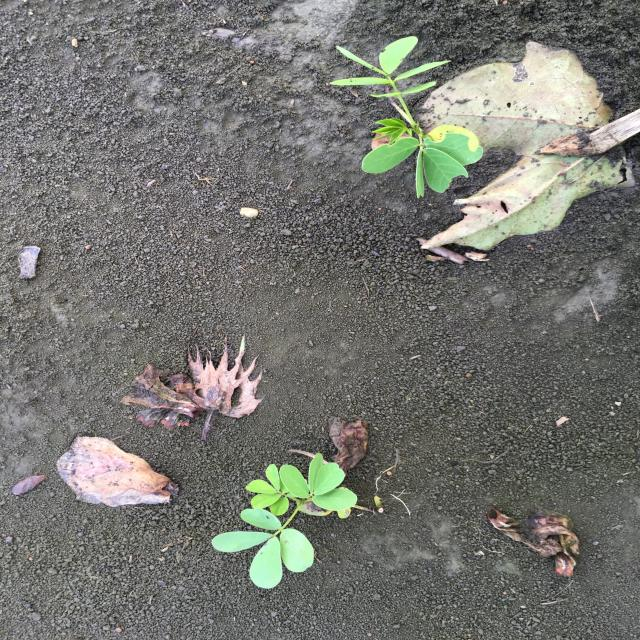Sicklepod: (326, 33, 488, 200), (207, 450, 360, 589)
